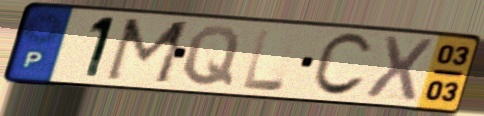1: (82, 14, 119, 82)
C: (307, 31, 375, 100)
L: (239, 27, 287, 94)
M: (101, 16, 195, 87)
Q: (179, 24, 243, 89)
X: (361, 33, 437, 102)
